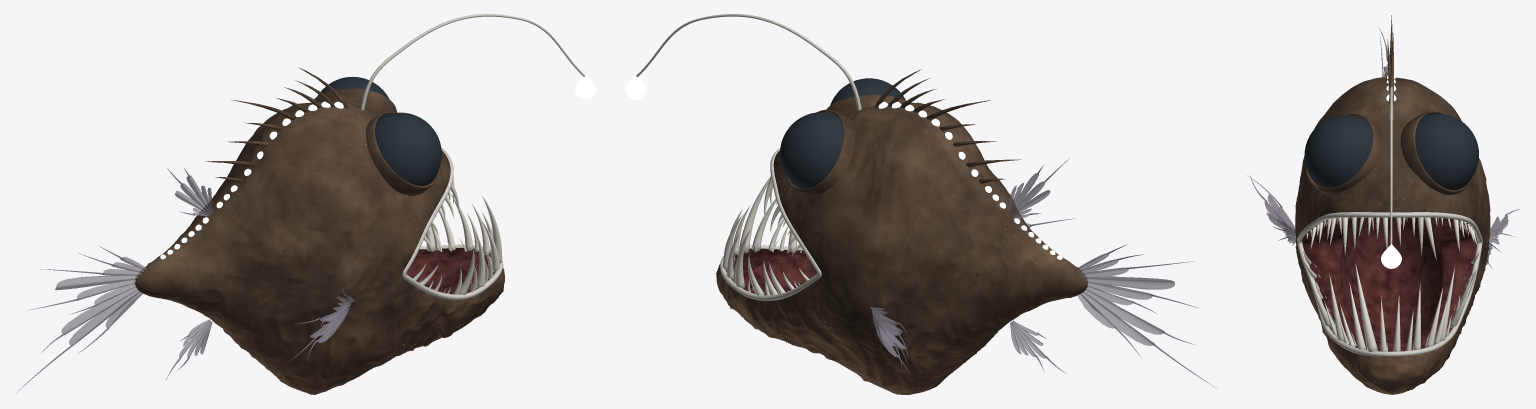
Rendered from anglerfish.glb.
The picture shows the model from 3 angles, left to right: view 1: azimuth 30°, elevation 25°; view 2: azimuth 150°, elevation 25°; view 3: azimuth 270°, elevation 25°; orthographic projection. The views are drawn at different scales.
Parts seen in each view (by area): view 1: AnglerSkin, CaudalFin, Eye_R, Teeth, Lip, Illicium, DorsalFin, PectoralFin_R, AnalFin, Photophores, Eye_L; view 2: AnglerSkin, CaudalFin, Eye_L, Teeth, Lip, DorsalFin, PectoralFin_L, Illicium, AnalFin, Eye_R, Photophores; view 3: AnglerSkin, Teeth, Eye_R, Eye_L, Lip, PectoralFin_R, Illicium, PectoralFin_L, Esca.
Part boxes in pixels (x1=…): AnglerSkin: x1=134, y1=68, x2=504, y2=394; CaudalFin: x1=16, y1=246, x2=146, y2=392; Eye_R: x1=375, y1=112, x2=441, y2=185; Teeth: x1=413, y1=179, x2=502, y2=294; Lip: x1=402, y1=147, x2=503, y2=299; Illicium: x1=360, y1=14, x2=585, y2=110; DorsalFin: x1=167, y1=168, x2=213, y2=216; PectoralFin_R: x1=288, y1=288, x2=354, y2=362; AnalFin: x1=166, y1=319, x2=212, y2=379; Photophores: x1=160, y1=101, x2=343, y2=259; Eye_L: x1=317, y1=76, x2=388, y2=98; AnglerSkin: x1=716, y1=69, x2=1087, y2=394; CaudalFin: x1=1075, y1=244, x2=1216, y2=388; Eye_L: x1=780, y1=112, x2=843, y2=189; Teeth: x1=722, y1=175, x2=809, y2=295; Lip: x1=719, y1=148, x2=821, y2=300; DorsalFin: x1=1009, y1=158, x2=1069, y2=218; PectoralFin_L: x1=870, y1=307, x2=909, y2=372; Illicium: x1=636, y1=14, x2=861, y2=110; AnalFin: x1=1010, y1=320, x2=1067, y2=374; Eye_R: x1=830, y1=78, x2=905, y2=105; Photophores: x1=878, y1=101, x2=1062, y2=259; AnglerSkin: x1=1295, y1=15, x2=1490, y2=394; Teeth: x1=1303, y1=217, x2=1479, y2=351; Eye_R: x1=1304, y1=115, x2=1372, y2=188; Eye_L: x1=1415, y1=114, x2=1478, y2=190; Lip: x1=1297, y1=212, x2=1482, y2=356; PectoralFin_R: x1=1247, y1=175, x2=1295, y2=245; Illicium: x1=1389, y1=86, x2=1393, y2=244; PectoralFin_L: x1=1485, y1=208, x2=1520, y2=269; Esca: x1=1381, y1=244, x2=1401, y2=268.
Size of the model in its own units: 5.35 by 2.91 by 2.23.
Materials: 7 (1 with a texture image).
